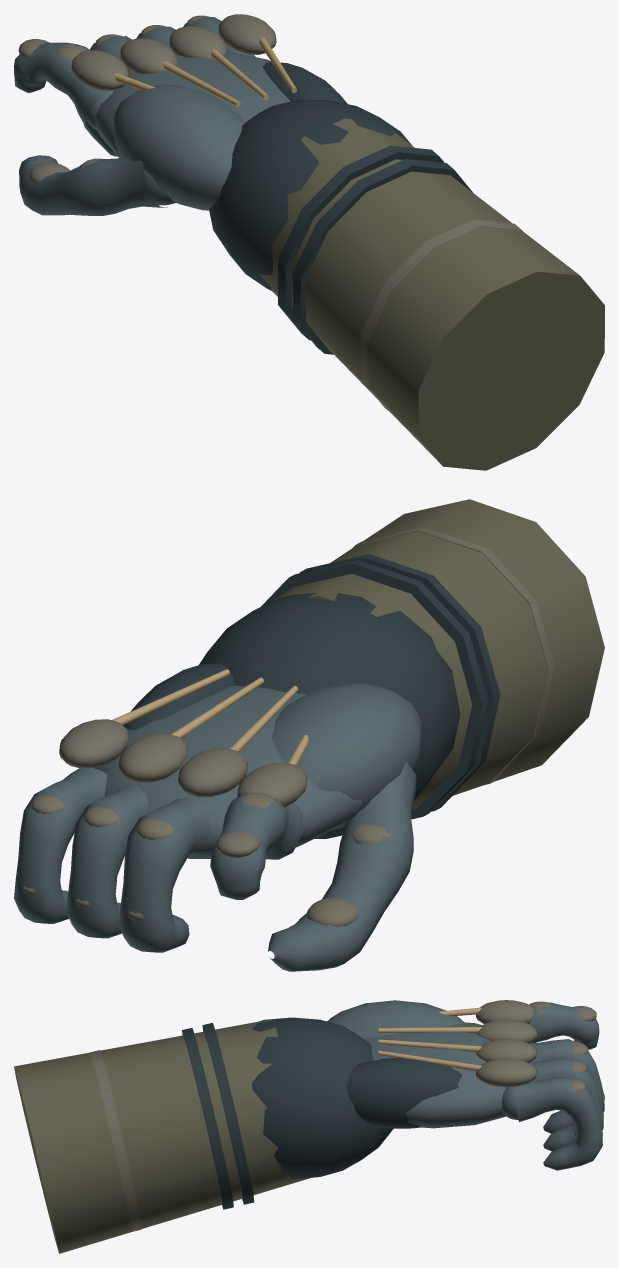
The model's file is glove_flat.glb.
3 renders of one model, top to bottom at view 1: azimuth 30°, elevation 25°; view 2: azimuth 150°, elevation 25°; view 3: azimuth 270°, elevation 25°, orthographic. The views are drawn at different scales.
Bounding box in the file's own units: 0.1331 × 0.1087 × 0.2817.
